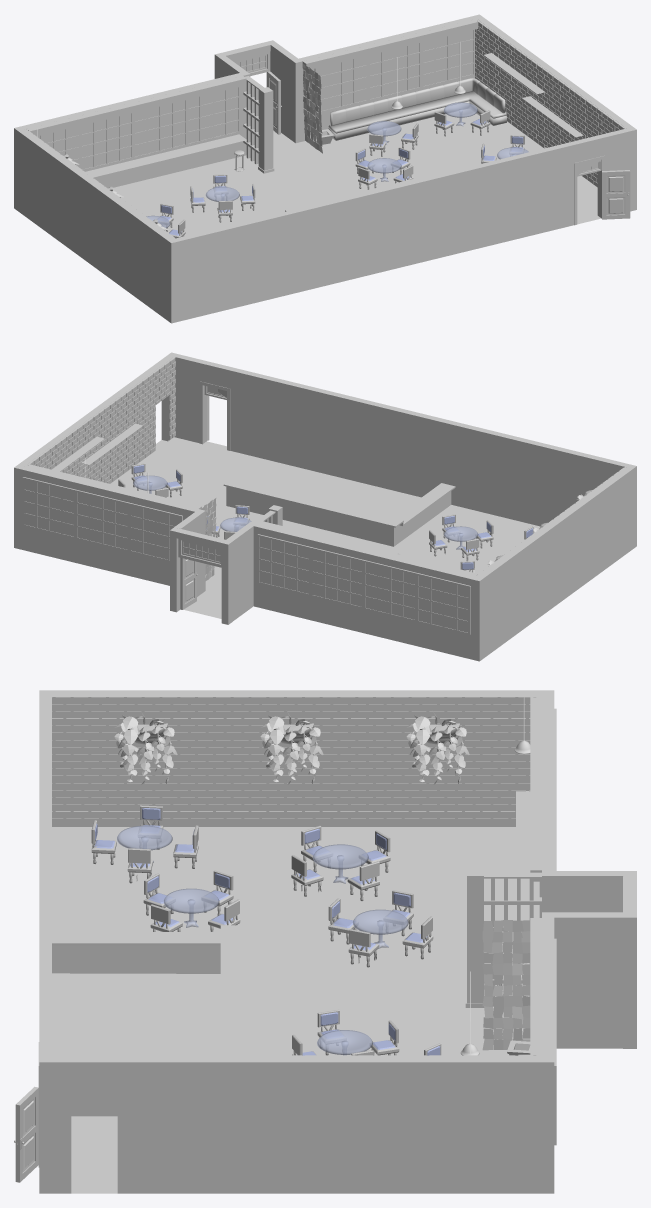
File: model_cafeteria_01.fbx
3 views of the same model, one above another, from view 1: azimuth 30°, elevation 25°; view 2: azimuth 150°, elevation 25°; view 3: azimuth 270°, elevation 25° (orthographic). The views are drawn at different scales.
Visible parts, largest first — view 1: PREDIO; view 2: PREDIO; view 3: PREDIO.
Boxes of the visible parts, <box> form: PREDIO: <box>14,14,636,323</box>; PREDIO: <box>14,352,636,661</box>; PREDIO: <box>14,690,636,1193</box>.
Size of the model in its own units: 4174 by 721 by 2957.
